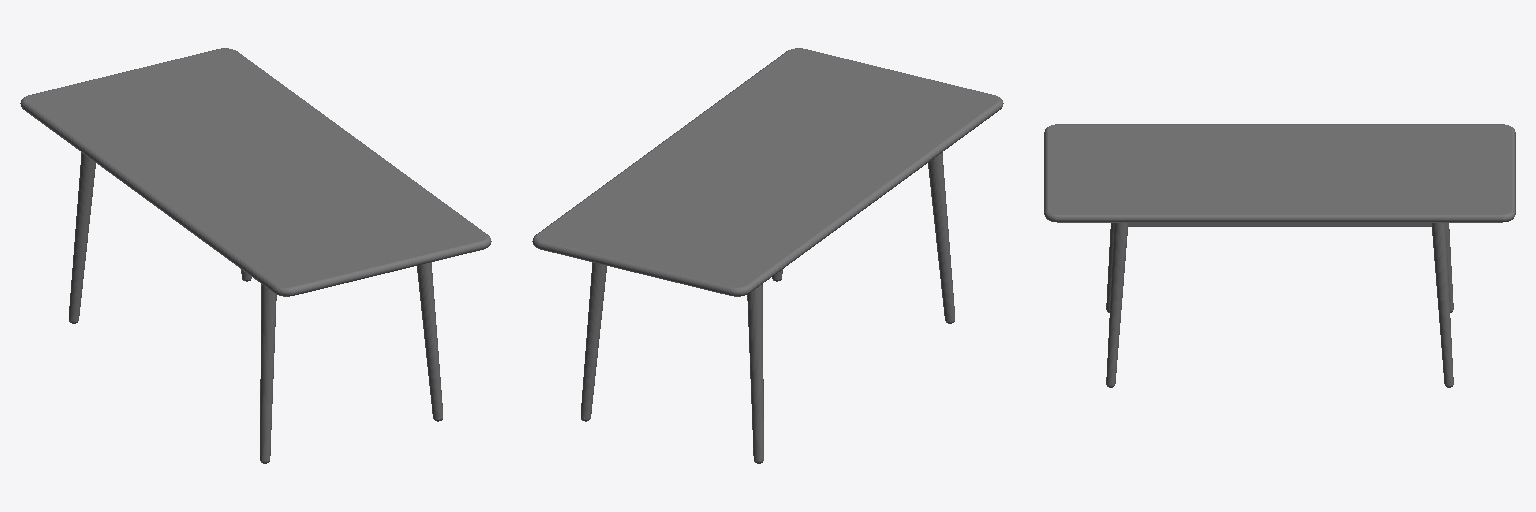
URDF robot description (table):
<?xml version="1.0"?>
<robot name="table">
    <material name="white">
        <color rgba="0.5 0.5 0.5 1.0"/>
    </material>

    <link name="table_link">
        <visual>
            <geometry>
                <mesh filename="table.obj"/>
            </geometry>
            <origin xyz="0 0 0" rpy="0 0 0"/>
            <material name="white"/>
        </visual>
        <collision>
            <geometry>
                <mesh filename="table_col.obj"/>
            </geometry>
            <origin xyz="0 0 0" rpy="0 0 0"/>
        </collision>

        <inertial>
           <mass value="25.0" />
           <origin xyz="0 0 0" rpy="0 0 0"/>
           <inertia ixx="2.5"  ixy="0"  ixz="0" iyy="2.5" iyz="0" izz="2.5" />
        </inertial>
    </link>
</robot>

--- What the picture shows (computed from the rendered views, not written in the file) ---
The picture shows the robot from 3 angles, left to right: view 1: azimuth 30°, elevation 25°; view 2: azimuth 150°, elevation 25°; view 3: azimuth 270°, elevation 25°; orthographic projection.
Model table with 1 links and 0 joints (none), rooted at table_link, posed all joints at 0.
Links seen in each view (by area): view 1: table_link; view 2: table_link; view 3: table_link.
Boxes of the visible links, x1,y1,x2,y2 form: table_link: (20, 48, 491, 463); table_link: (532, 48, 1003, 463); table_link: (1044, 124, 1515, 387).
Bounding box of the posed robot: 0.827 × 1.76 × 0.7417 m (x, y, z).
Meshes: 1 distinct files referenced, 1 mesh visuals loaded (1 OBJ).